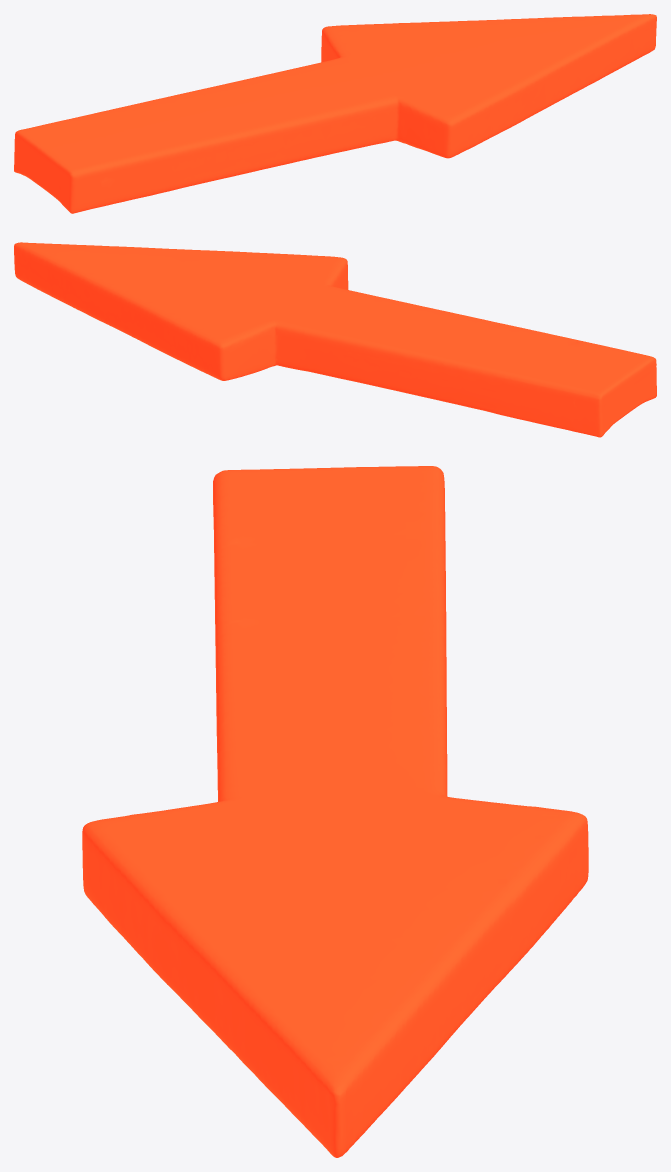
The model's file is modelred.glb.
3 views of the same model, one above another, from view 1: azimuth 30°, elevation 25°; view 2: azimuth 150°, elevation 25°; view 3: azimuth 270°, elevation 25° (orthographic). The views are drawn at different scales.
Visible parts, largest first — view 1: Mesh_0.001; view 2: Mesh_0.001; view 3: Mesh_0.001.
Boxes of the visible parts, x1=… form: Mesh_0.001: x1=14, y1=14, x2=656, y2=213; Mesh_0.001: x1=14, y1=242, x2=656, y2=437; Mesh_0.001: x1=82, y1=466, x2=588, y2=1157.
Size of the model in its own units: 2 by 0.1624 by 0.716.
